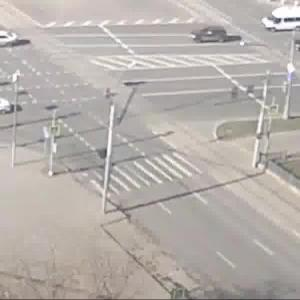car: (259, 11, 300, 31), (187, 28, 233, 45), (1, 29, 21, 49)
